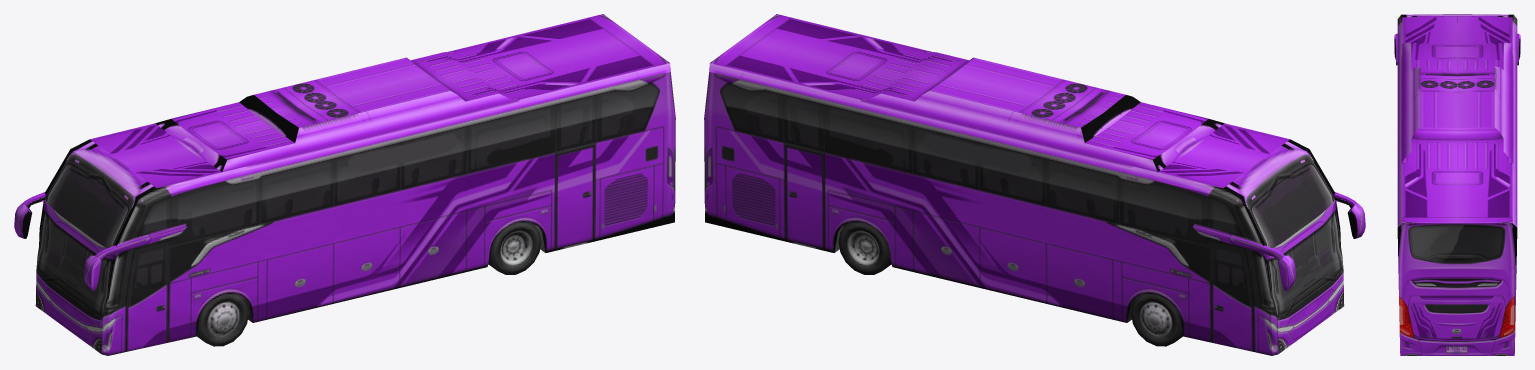
The model's file is bus_jb5_low_poly.glb.
The picture shows the model from 3 angles, left to right: view 1: azimuth 30°, elevation 25°; view 2: azimuth 150°, elevation 25°; view 3: azimuth 270°, elevation 25°; orthographic projection. The views are drawn at different scales.
Parts seen in each view (by area): view 1: Circle.018; view 2: Circle.018; view 3: Circle.018.
Boxes of the visible parts, x1=… form: Circle.018: x1=14, y1=14, x2=675, y2=355; Circle.018: x1=704, y1=14, x2=1365, y2=355; Circle.018: x1=1394, y1=14, x2=1520, y2=355.
Size of the model in its own units: 12.2 by 3.76 by 2.76.
1 material, 1 textured.
